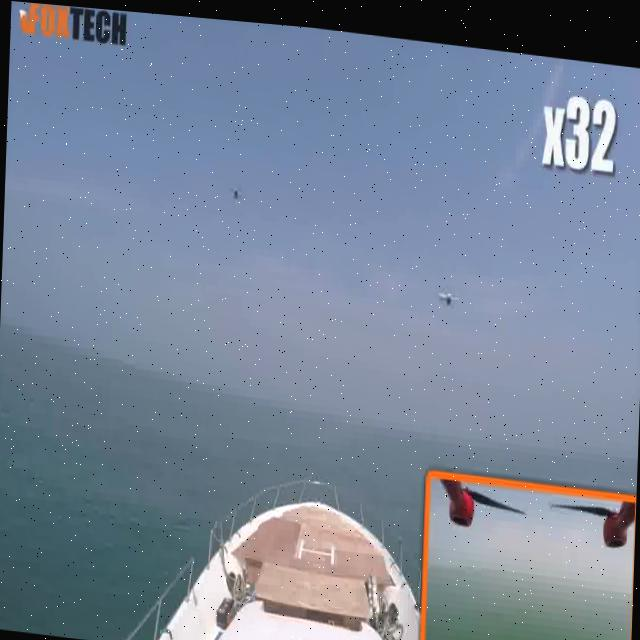drone: (222, 167, 254, 208), (435, 272, 462, 301)
